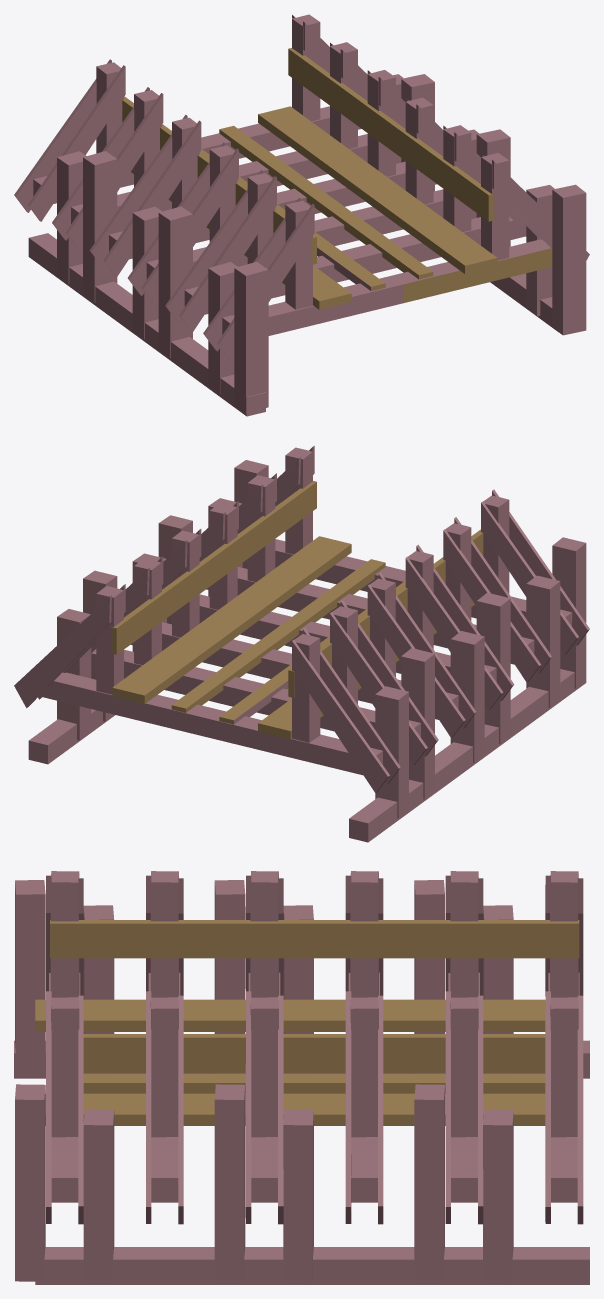
File: rollerstart.obj
3 renders of one model, top to bottom at view 1: azimuth 30°, elevation 25°; view 2: azimuth 150°, elevation 25°; view 3: azimuth 270°, elevation 25°, orthographic. The views are drawn at different scales.
Parts seen in each view (by area): view 1: Cube.013_Cube.010; view 2: Cube.013_Cube.010; view 3: Cube.013_Cube.010.
Boxes of the visible parts, x1,y1,x2,y2 form: Cube.013_Cube.010: (14,14,589,416); Cube.013_Cube.010: (14,445,589,842); Cube.013_Cube.010: (14,871,589,1284).
Size of the model in its own units: 1.14 by 0.5345 by 1.15.
